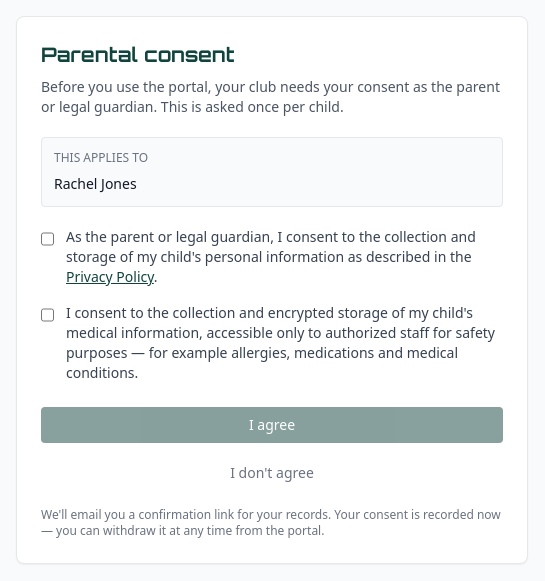
it: ConsentGate › both statements are required before agreeing is possible
Check: the heading "Parental consent" is shown, box [41,42,234,67]
Check: the button "I agree" is disabled, box [41,407,503,443]
Click the 1st checkbox.
click(48, 239)  # box [41,231,54,247]
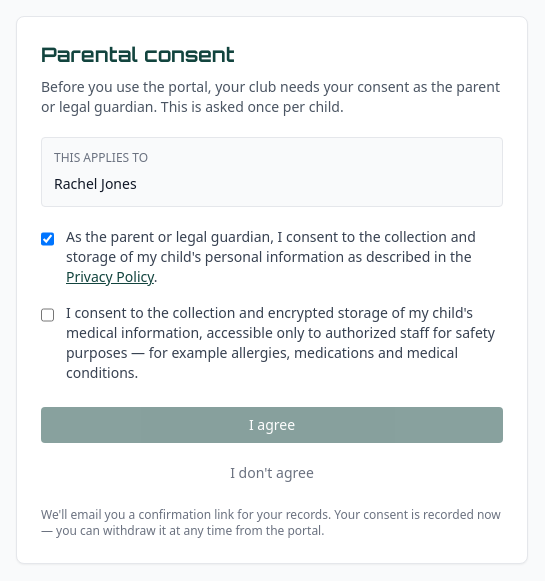
Check: the button "I agree" is disabled, box [41,407,503,443]
Click the 2nd checkbox.
click(48, 315)  # box [41,307,54,323]
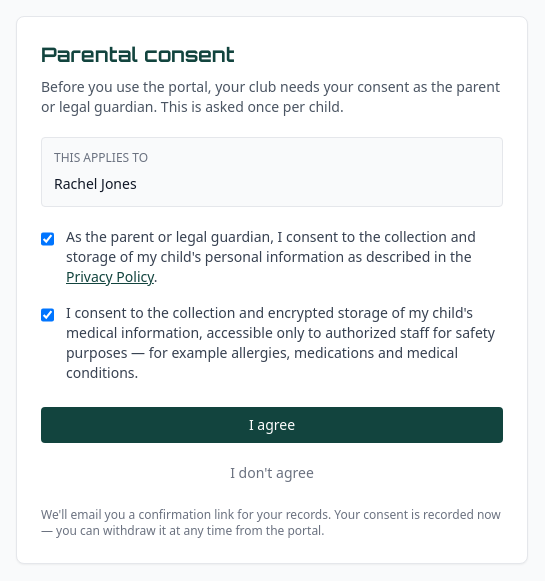
Check: the button "I agree" is enabled, box [41,407,503,443]
